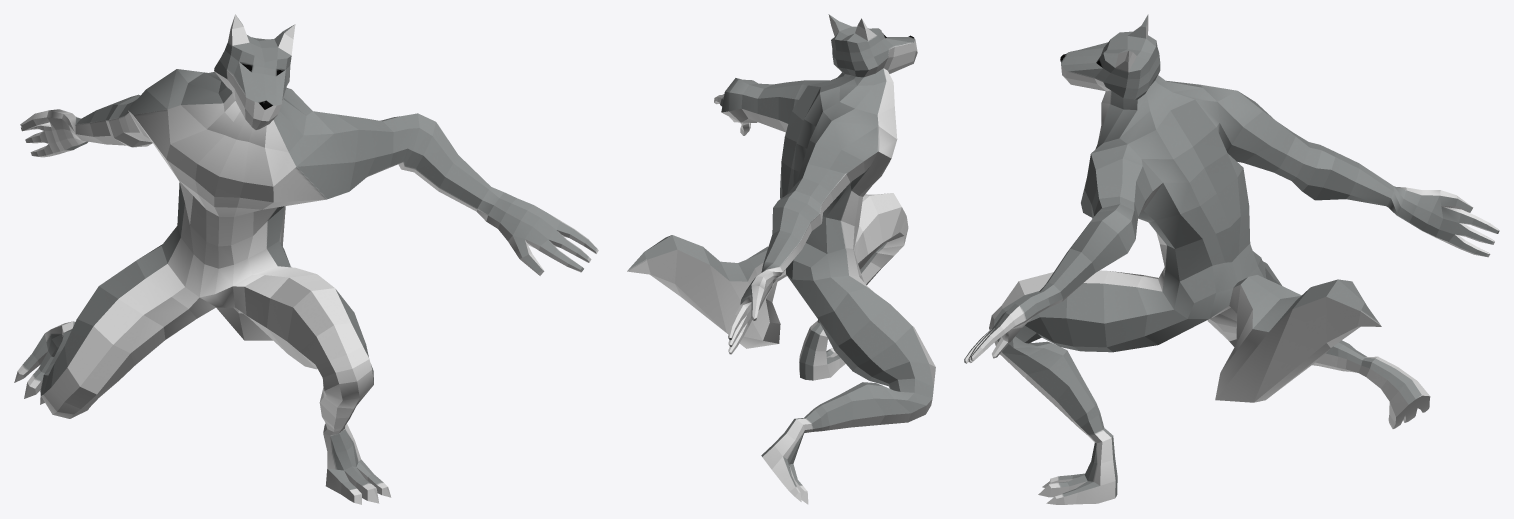
The model's file is WolfAttack(30).obj.
The picture shows the model from 3 angles, left to right: view 1: azimuth 30°, elevation 25°; view 2: azimuth 150°, elevation 25°; view 3: azimuth 270°, elevation 25°; orthographic projection. The views are drawn at different scales.
Parts seen in each view (by area): view 1: Box001; view 2: Box001; view 3: Box001.
Part boxes in pixels (<box>): Box001: <box>14,14,598,504</box>; Box001: <box>627,14,935,504</box>; Box001: <box>964,14,1499,504</box>.
Bounding box in the file's own units: 111 × 122 × 133.
